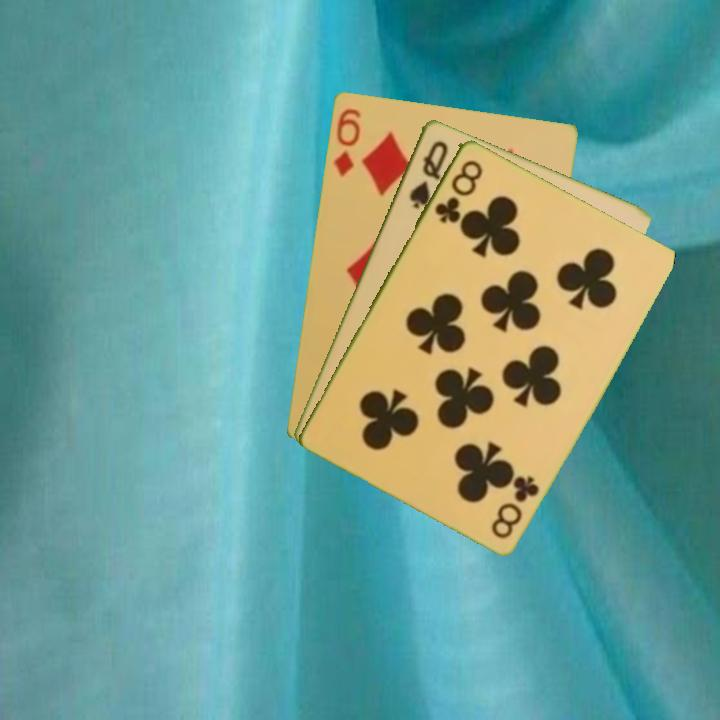6d: (330, 104, 363, 180)
8c: (431, 155, 486, 226), (487, 471, 542, 541)
Qs: (405, 136, 451, 212)
